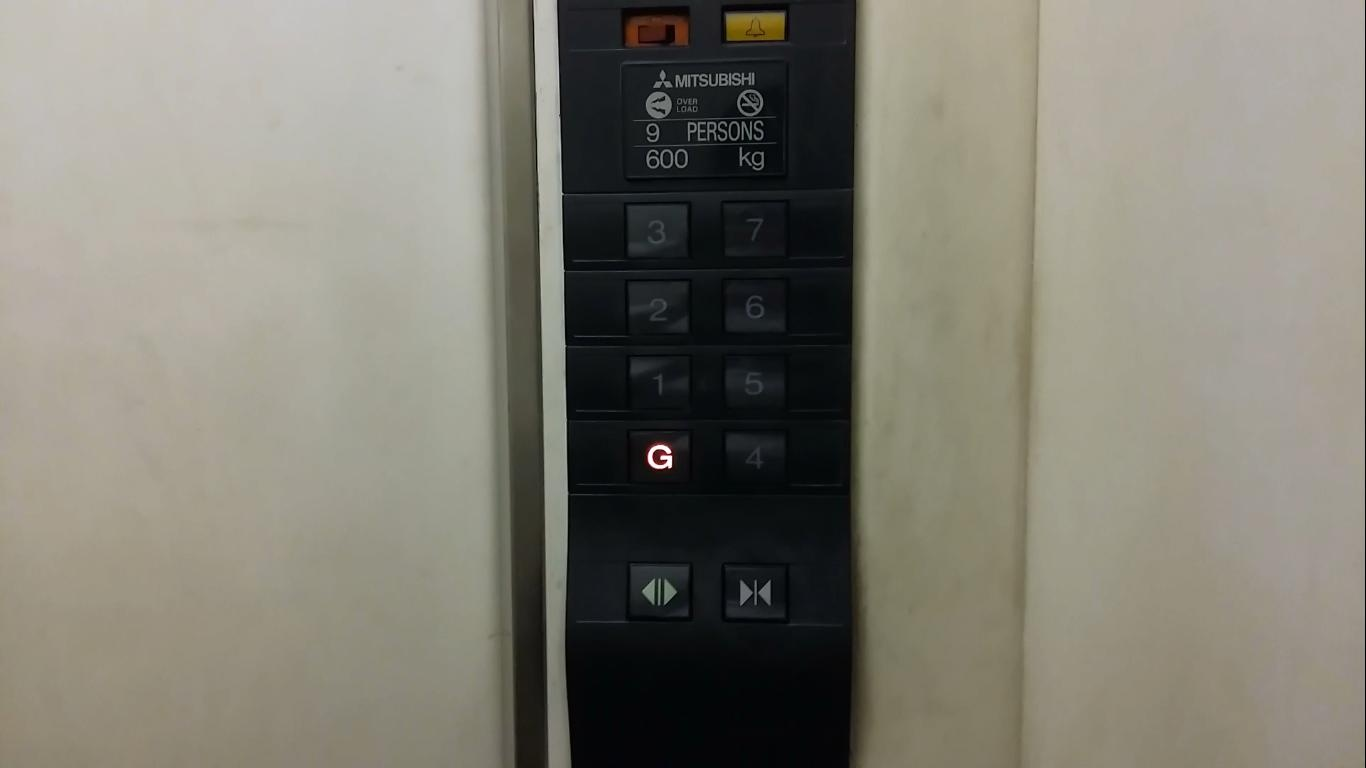1: (622, 348, 696, 414)
2: (619, 273, 693, 339)
3: (619, 197, 693, 263)
4: (719, 428, 793, 494)
5: (717, 351, 791, 417)
6: (717, 272, 791, 338)
7: (714, 197, 788, 263)
G: (622, 425, 696, 491)
alarm: (715, 2, 793, 49)
close: (717, 559, 791, 625)
open: (622, 557, 696, 623)
switch: (618, 1, 696, 54)
